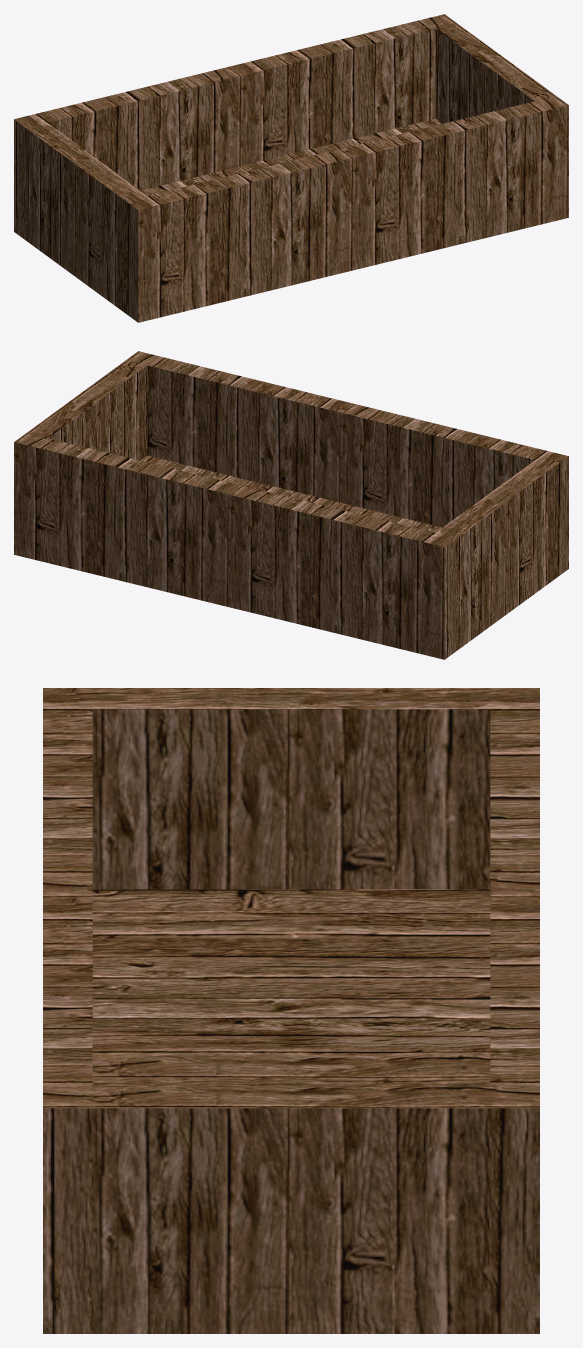
Rendered from wbox.FBX.
3 renders of one model, top to bottom at view 1: azimuth 30°, elevation 25°; view 2: azimuth 150°, elevation 25°; view 3: azimuth 270°, elevation 25°, orthographic. The views are drawn at different scales.
Parts seen in each view (by area): view 1: wbox; view 2: wbox; view 3: wbox.
Boxes of the visible parts, x1,y1,x2,y2 form: wbox: (14, 14, 568, 322); wbox: (14, 351, 568, 659); wbox: (43, 688, 539, 1333).
Size of the model in its own units: 2 by 1 by 0.5.
1 material, 1 textured.
